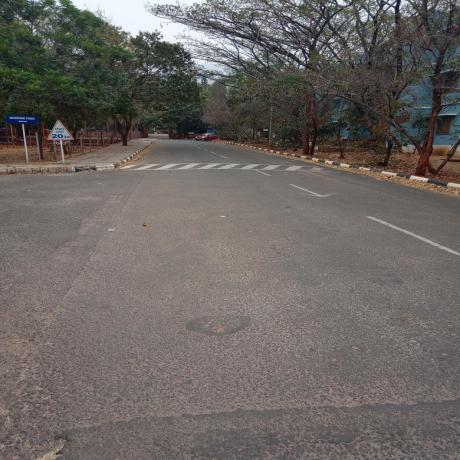Speed Bump: (120, 161, 331, 172)
